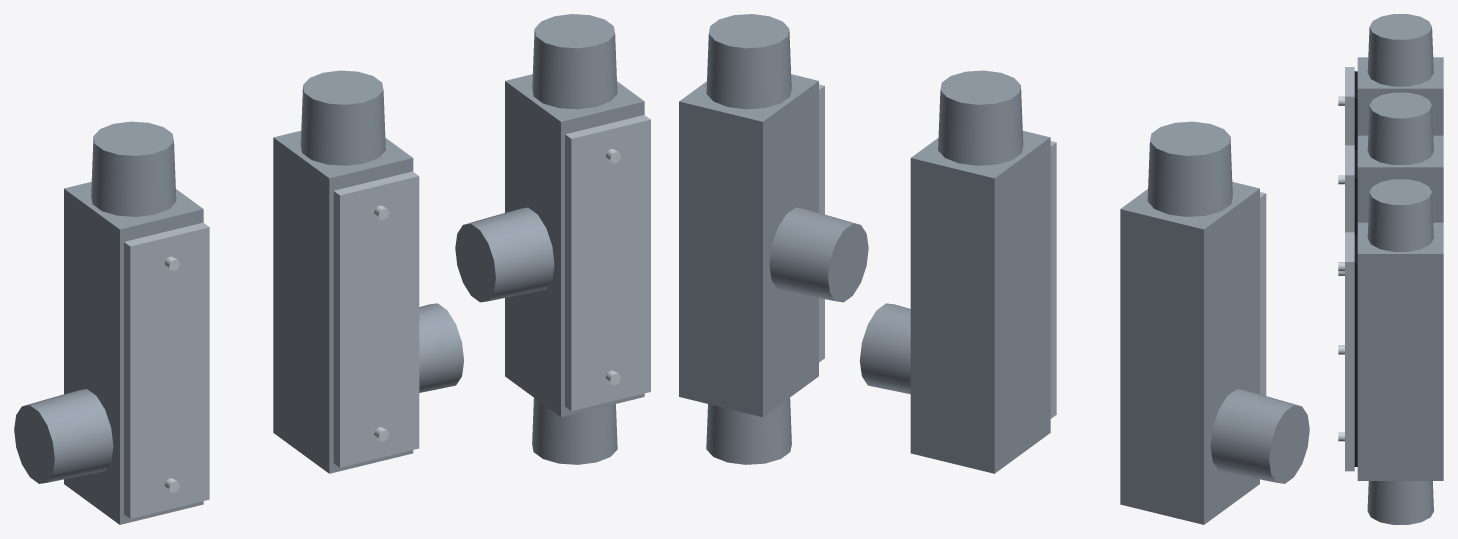
The picture shows the model from 3 angles, left to right: view 1: azimuth 30°, elevation 25°; view 2: azimuth 150°, elevation 25°; view 3: azimuth 270°, elevation 25°; orthographic projection. The views are drawn at different scales.
Parts seen in each view (by area): view 1: cad-conduit-body-ll-lr-t-set; view 2: cad-conduit-body-ll-lr-t-set; view 3: cad-conduit-body-ll-lr-t-set.
Part boxes in pixels (bbox=[...]): cad-conduit-body-ll-lr-t-set: bbox=[14, 14, 650, 524]; cad-conduit-body-ll-lr-t-set: bbox=[679, 14, 1309, 524]; cad-conduit-body-ll-lr-t-set: bbox=[1338, 14, 1443, 524].
Bounding box in the file's own units: 0.264 × 0.18 × 0.054.
